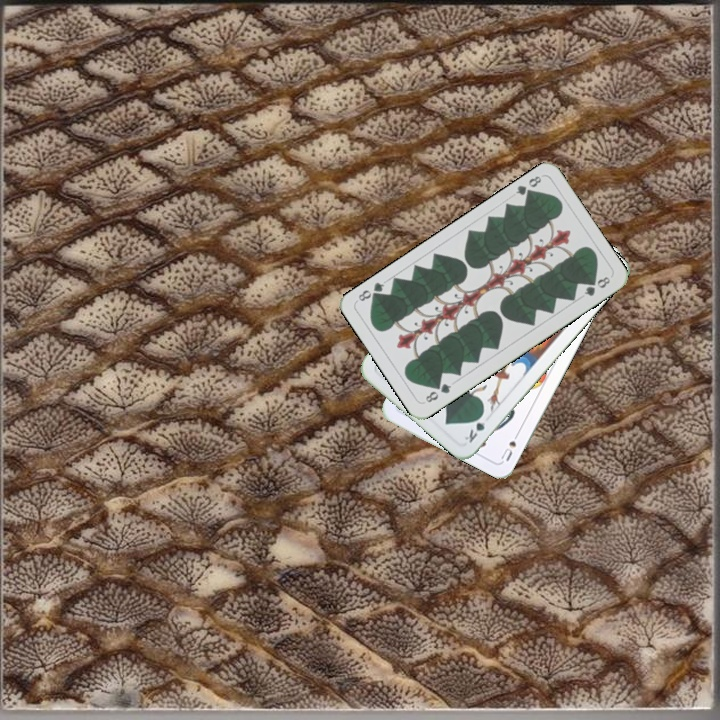G8: (512, 171, 544, 201), (421, 379, 454, 405)
GK: (460, 409, 489, 446)
SU: (497, 426, 523, 464)
